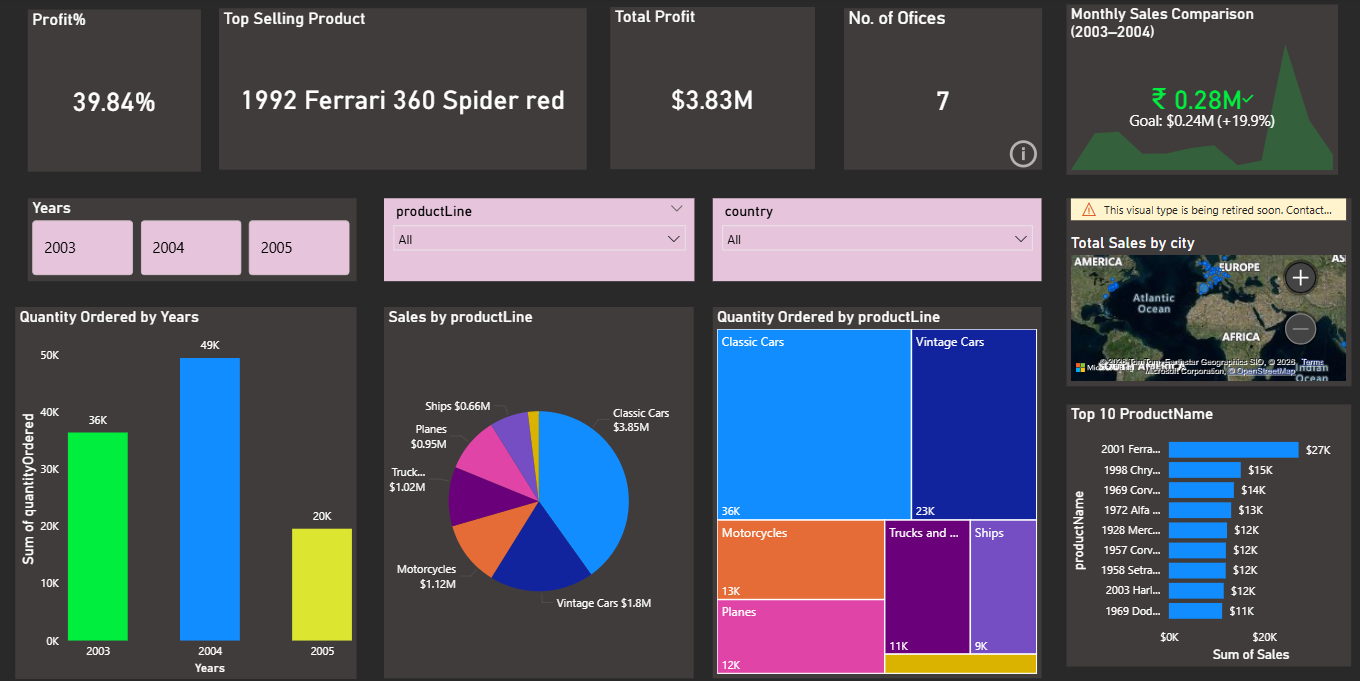

The page's visual inventory and layout, read from the dashboard file:
{"tool":"powerbi","page":{"name":"default","canvas":[1500,750],"ordinal":0},"visuals":[{"type":"card","title":"Total Profit","fields":{"Values":["orderdetails.totalprofit"]},"box":[677.1,11.4,222.9,177.1],"z":0},{"type":"card","title":"Top Selling Product","fields":{"Values":["products.Top"]},"box":[250.7,12.3,400.6,175.8],"z":1000},{"type":"card","title":"Profit%","fields":{"Values":["orderdetails.profir%"]},"box":[42.9,14.3,188.6,177.1],"z":2000},{"type":"card","title":"No. of Ofices","fields":{"Values":["CountNonNull(offices.officeCode)"]},"box":[931.4,12.9,215.7,175.7],"z":3000},{"type":"kpi","title":"Monthly Sales Comparison (2003–2004)","fields":{"Goal":["orders.sales2003"],"TrendLine":["orders.Month Name"],"Indicator":["orders.sales2004"]},"box":[1174.3,8.6,295.7,185.7],"z":4000},{"type":"advancedSlicerVisual","fields":{"Values":["orders.Years"]},"box":[42.9,220,358.6,90],"z":5000},{"type":"slicer","fields":{"Values":["products.productLine"]},"box":[430,220,338.6,90],"z":6000},{"type":"slicer","fields":{"Values":["customers.country"]},"box":[788.6,220,358.6,90],"z":7000},{"type":"clusteredColumnChart","title":"Quantity Ordered by Years","fields":{"Y":["Sum(orderdetails.quantityOrdered)"],"Category":["orders.Years"]},"box":[28.5,337.7,372.2,405.2],"z":8000},{"type":"pieChart","title":"Sales by productLine","fields":{"Y":["Sum(orderdetails.Sales)"],"Category":["products.productLine"]},"box":[430.6,337.9,337.9,404.7],"z":9000},{"type":"map","title":"Total Sales by city","fields":{"Category":["customers.city"],"Size":["Sum(orderdetails.Sales)"]},"box":[1174.3,220,310,204.3],"z":10000},{"type":"clusteredBarChart","title":"Top 10 ProductName","fields":{"Category":["products.productName"],"Y":["Sum(orderdetails.Sales)"]},"box":[1174.3,444.3,310,285.7],"z":11000},{"type":"treemap","title":"Quantity Ordered by productLine","fields":{"Values":["Sum(orderdetails.quantityOrdered)"],"Group":["products.productLine"]},"box":[789,337.9,358.4,404.7],"z":12000},{"type":"actionButton","box":[1107.8,151.3,39.5,39.5],"z":12001}]}

Visuals, with their boxes in screenshot pixels (x1, y1, x2, y2), scaled from the page's 1500x750 canvas onto the 1360x681 screenshot:
"Total Profit" card: [614, 10, 816, 171]
"Top Selling Product" card: [227, 11, 591, 171]
"Profit%" card: [39, 13, 210, 174]
"No. of Ofices" card: [844, 12, 1040, 171]
"Monthly Sales Comparison (2003–2004)" kpi: [1065, 8, 1333, 176]
advancedSlicerVisual - orders.Years: [39, 200, 364, 281]
slicer - products.productLine: [390, 200, 697, 281]
slicer - customers.country: [715, 200, 1040, 281]
"Quantity Ordered by Years" clusteredColumnChart: [26, 307, 363, 675]
"Sales by productLine" pieChart: [390, 307, 697, 674]
"Total Sales by city" map: [1065, 200, 1346, 385]
"Top 10 ProductName" clusteredBarChart: [1065, 403, 1346, 663]
"Quantity Ordered by productLine" treemap: [715, 307, 1040, 674]
actionButton: [1004, 137, 1040, 173]
